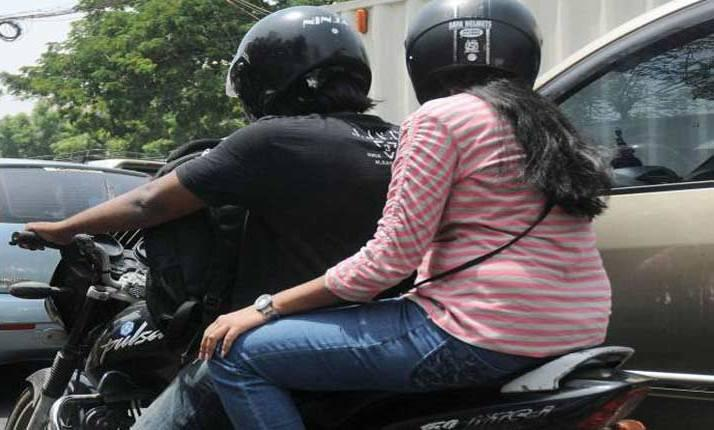helmet: (215, 0, 380, 119), (393, 0, 557, 95)
